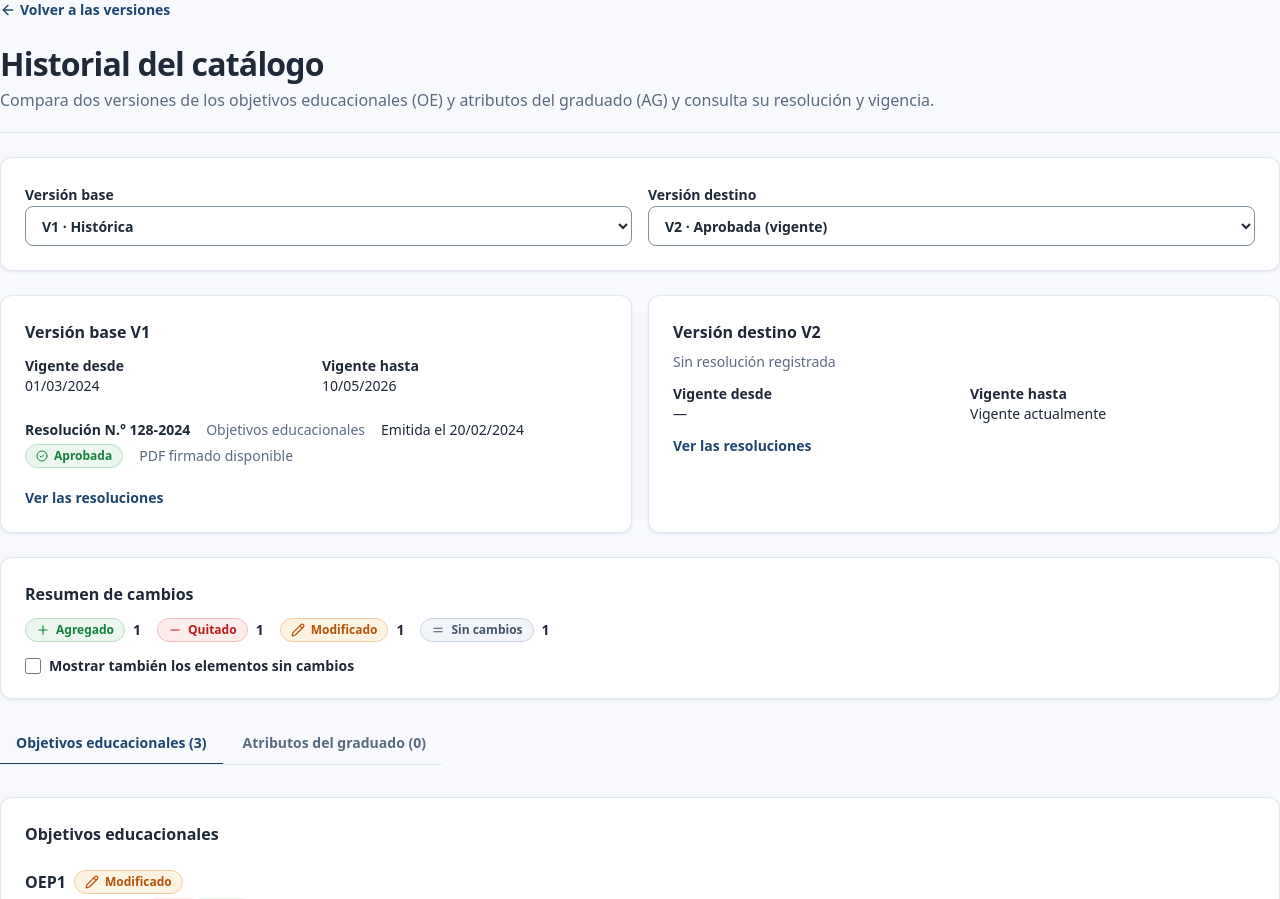
CatalogComparisonPage Component (HU-017, T-017-11, CA1, CA2, RNF-036) › hides unchanged items until asked to show them
This screenshot has width=1280, height=899.
Check: the text "OEP2" is not shown
Click the checkbox labelled "Mostrar también los elementos sin cambios" at (33, 666), box x1=25 y1=658 x2=41 y2=674
(page scrolled)
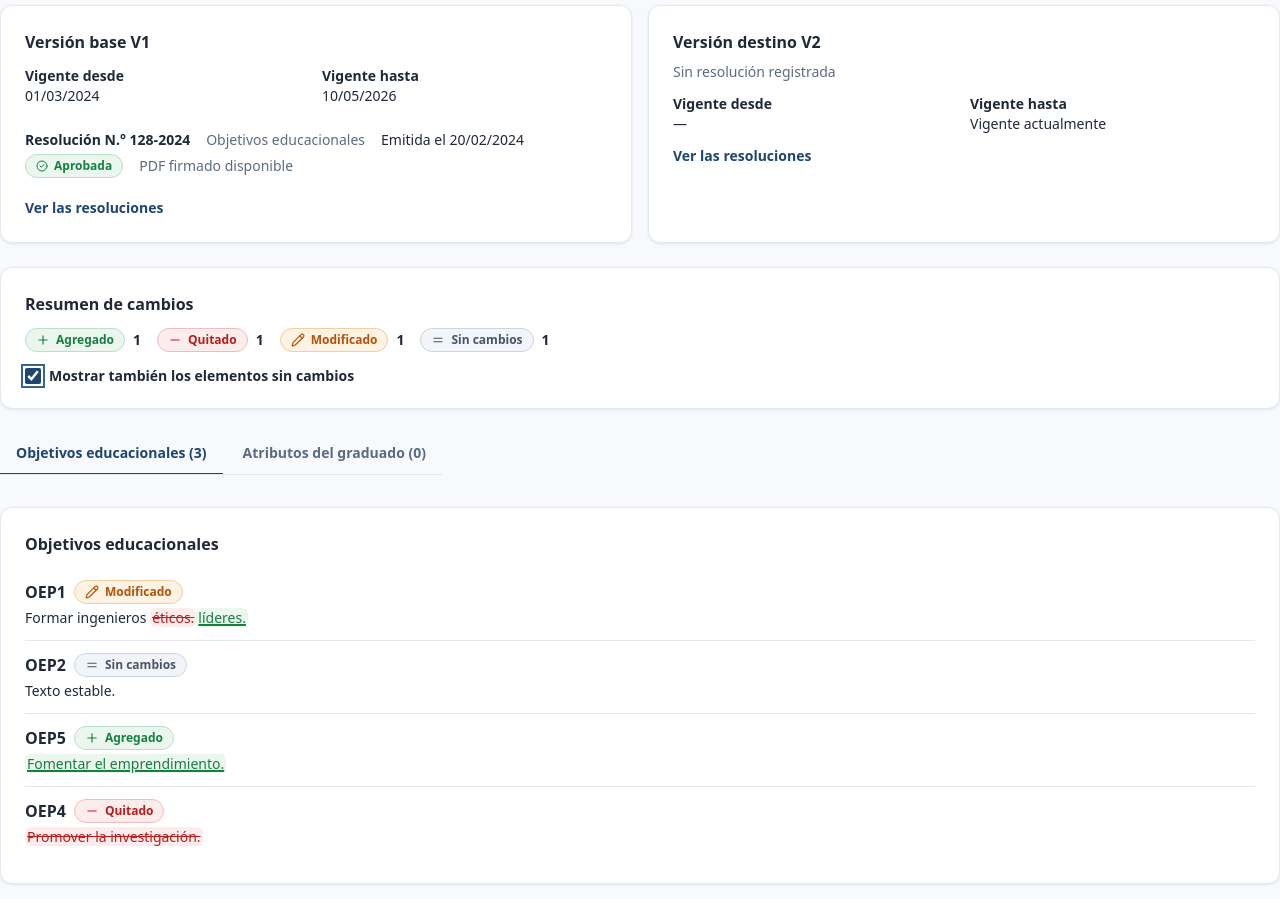
Check: the text "OEP2" is shown, box x1=25 y1=653 x2=66 y2=677
